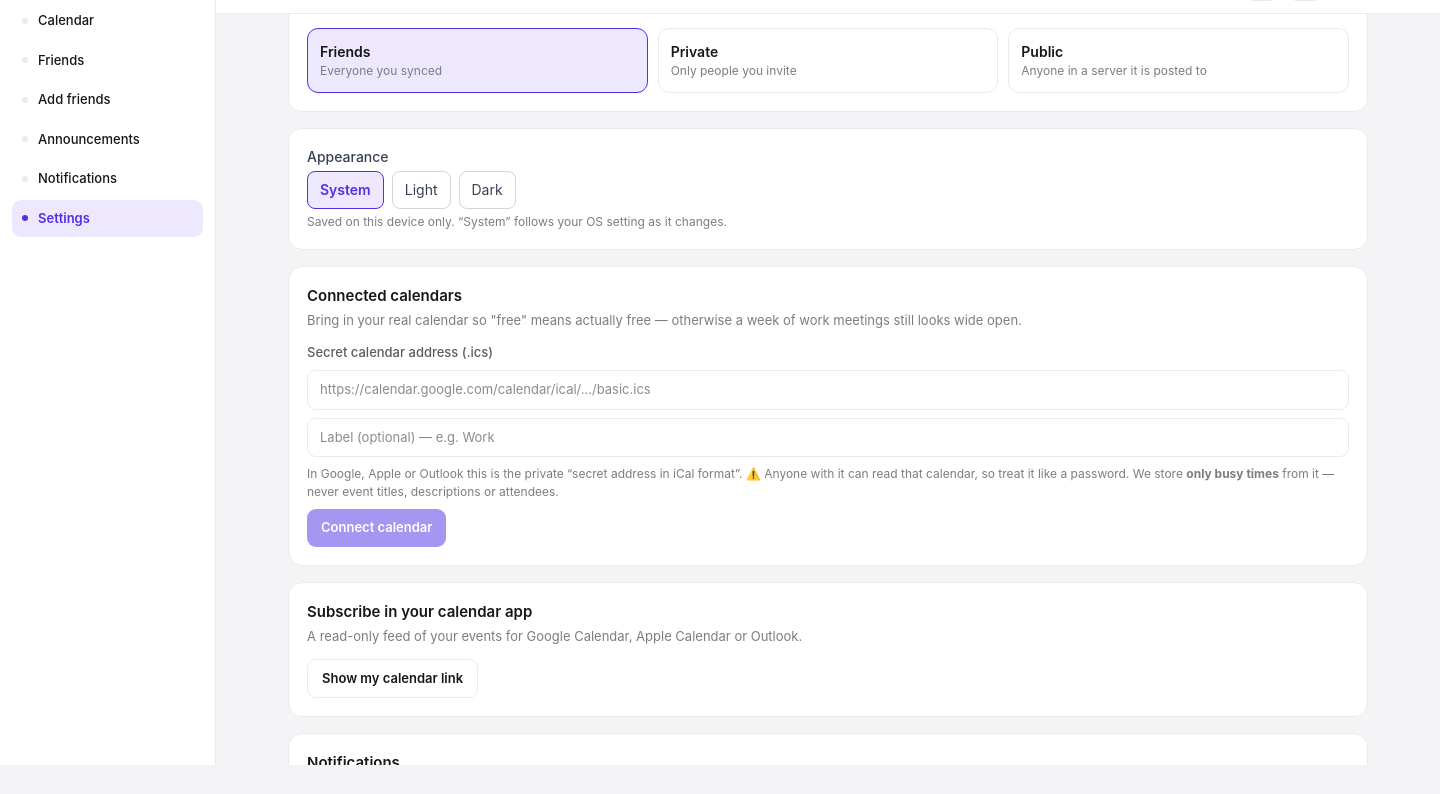
it: settings page › connected calendars › reports a rejected URL instead of failing quietly
(page scrolled)
Type "file:///etc/passwd" into the field labelled "Secret calendar address (.ics)". click: (828, 390)
box: [307,370,1349,410]
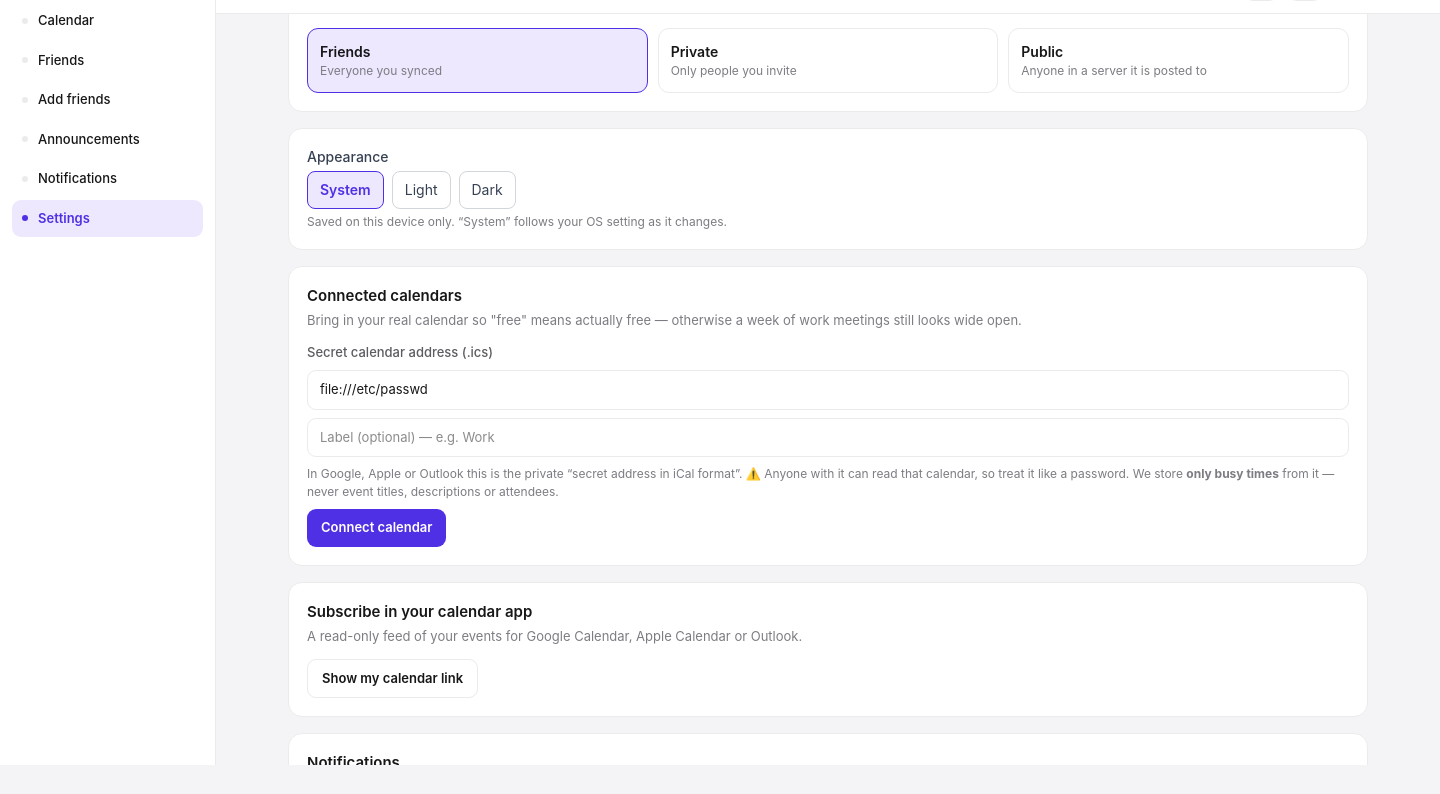
Click the button "Connect calendar". click: click(377, 528)
box: [307,509,446,546]
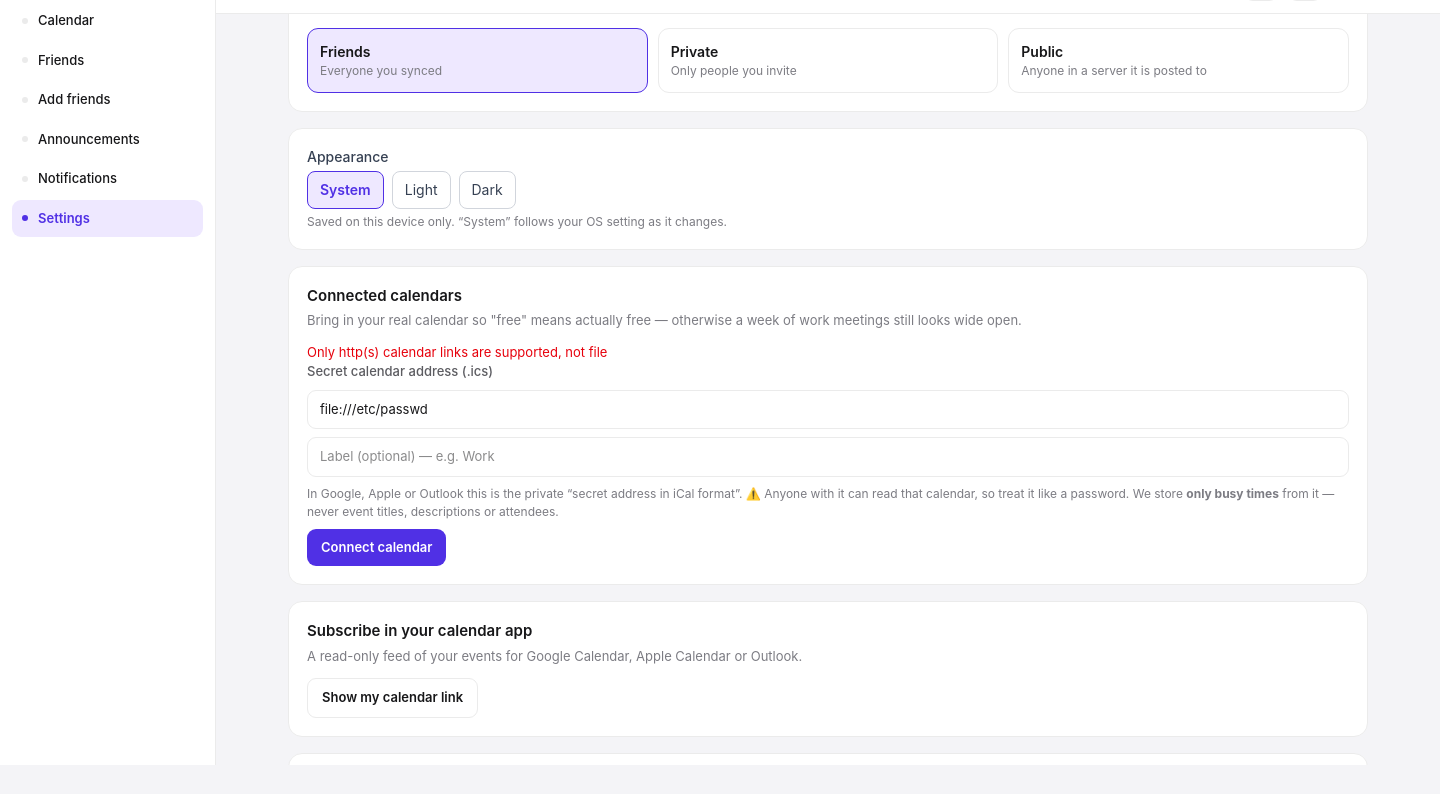
Now the message shows "Only http(s) calendar links", box [307,344,607,360]
